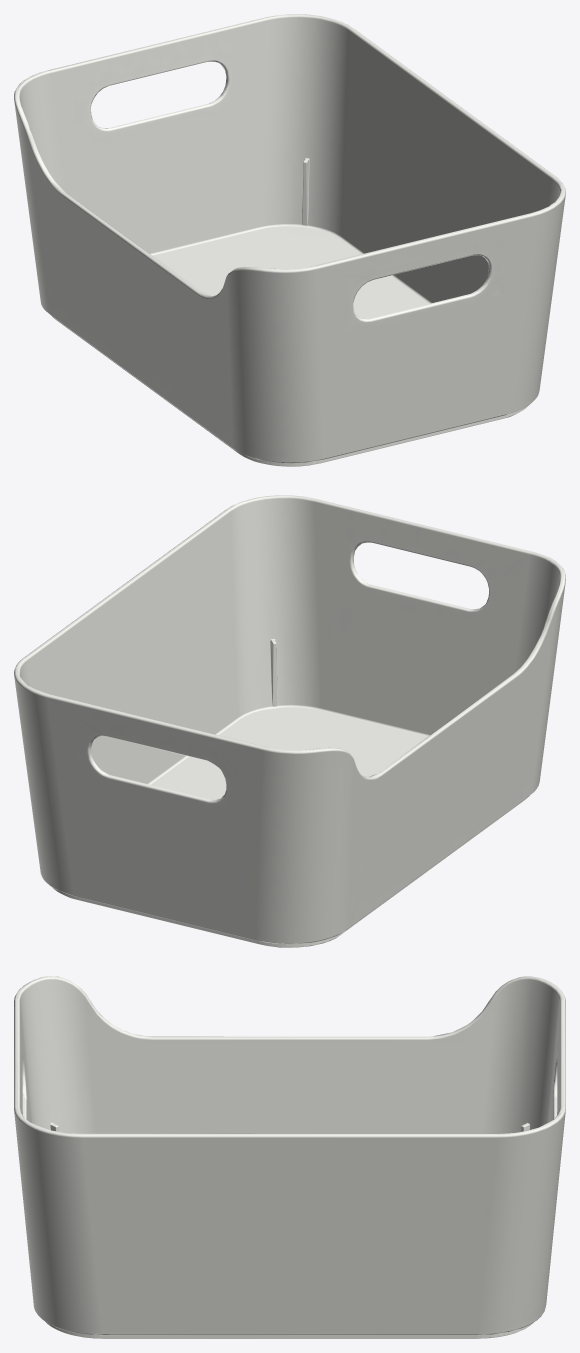
Rendered from 04 - UPPDATERA Box - white 24x17 cm.glb.
3 renders of one model, top to bottom at view 1: azimuth 30°, elevation 25°; view 2: azimuth 150°, elevation 25°; view 3: azimuth 270°, elevation 25°, orthographic. The views are drawn at different scales.
Parts seen in each view (by area): view 1: model; view 2: model; view 3: model.
Boxes of the visible parts, bbox=[...] form: model: bbox=[14, 14, 565, 466]; model: bbox=[14, 495, 565, 947]; model: bbox=[14, 976, 565, 1338].
Size of the model in its own units: 0.1693 by 0.1032 by 0.2399.
Materials: 1 (1 with a texture image).
